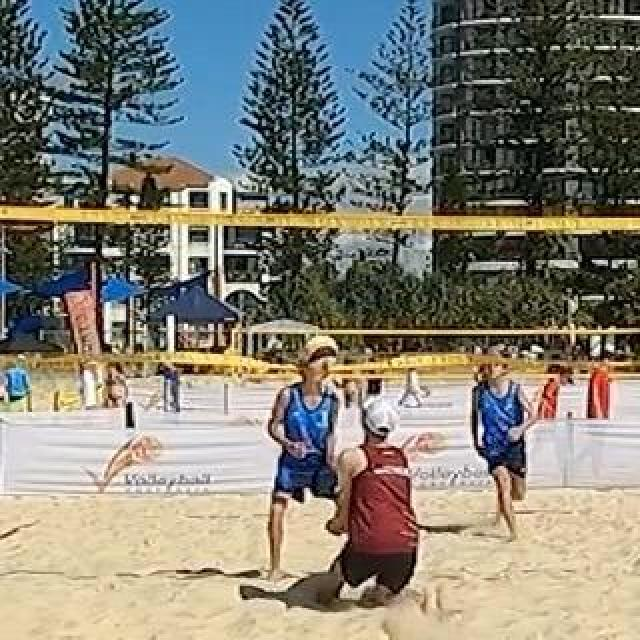volleyball: (303, 334, 339, 370)
